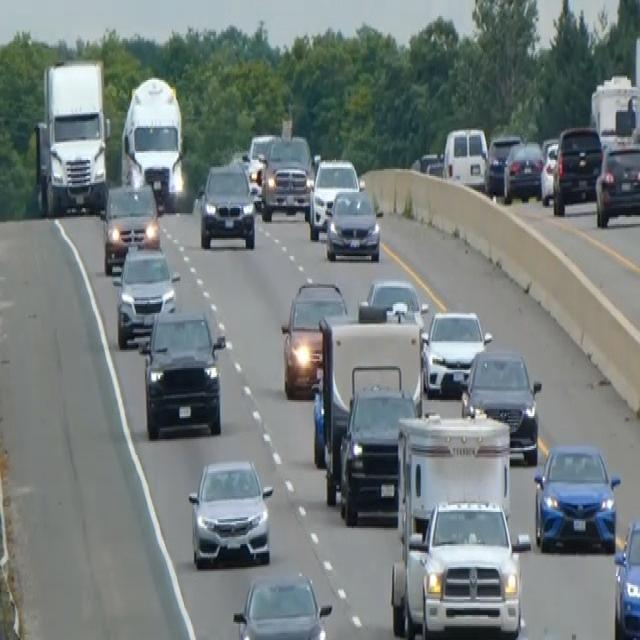bus: (589, 73, 639, 147)
car: (399, 496, 529, 638), (337, 381, 419, 526), (137, 306, 226, 439), (460, 345, 542, 464), (187, 457, 274, 569), (533, 441, 620, 553), (280, 277, 348, 398), (113, 238, 180, 348), (232, 569, 332, 638), (421, 306, 491, 398), (100, 180, 160, 274), (197, 160, 256, 249), (552, 123, 603, 213), (260, 134, 312, 220), (308, 156, 360, 238), (324, 187, 381, 261), (594, 137, 639, 227), (359, 275, 427, 329), (613, 516, 639, 638), (442, 124, 489, 190), (241, 132, 278, 204), (503, 138, 543, 202), (486, 132, 522, 196), (539, 138, 559, 204), (411, 150, 441, 174)
lorry: (33, 55, 110, 217)
truck: (119, 73, 186, 210)
